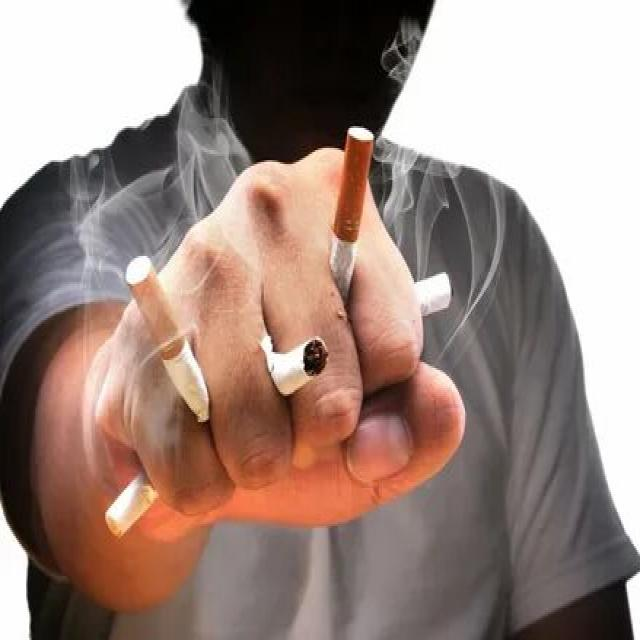smoke: (118, 248, 219, 430), (322, 126, 376, 308), (96, 462, 160, 556), (265, 332, 334, 402), (416, 268, 462, 316)
